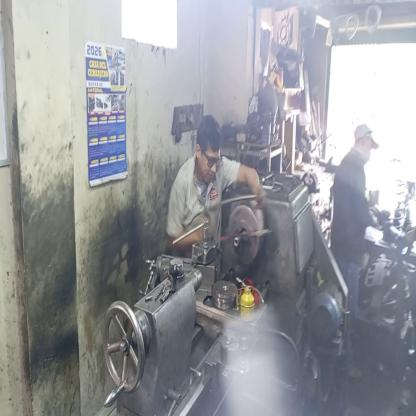lentes: (202, 146, 223, 172)
